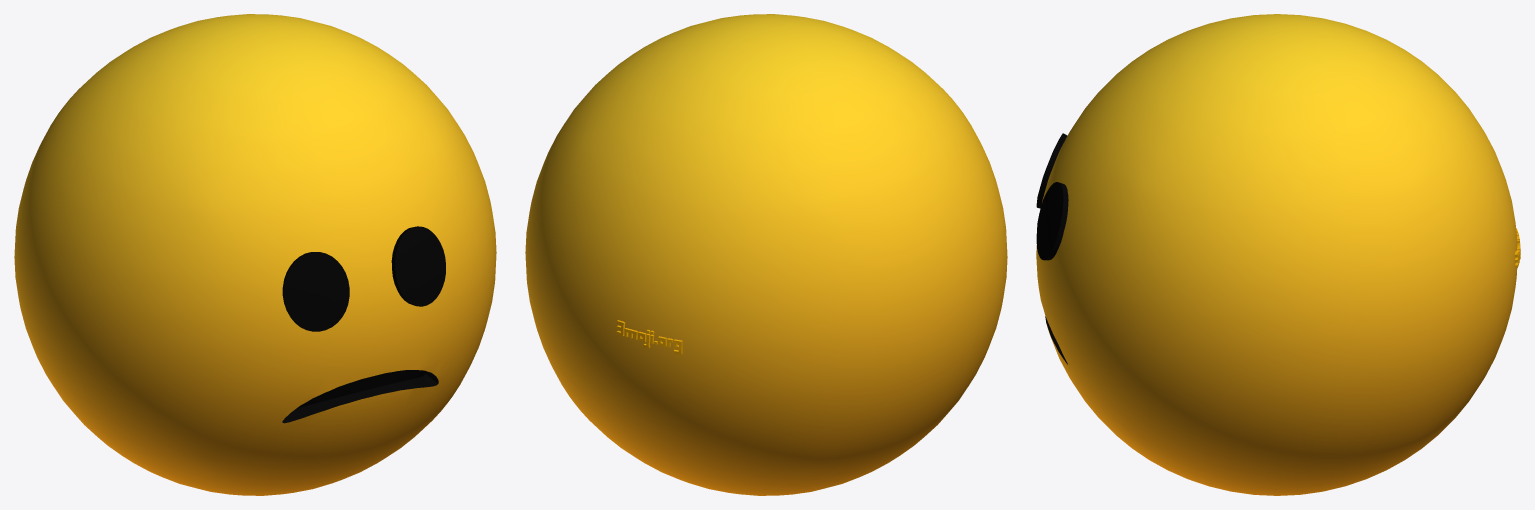
Rendered from slightly_frowning_face.glb.
3 renders of one model, left to right at view 1: azimuth 30°, elevation 25°; view 2: azimuth 150°, elevation 25°; view 3: azimuth 270°, elevation 25°, orthographic.
Parts seen in each view (by area): view 1: Slightly Frowning Face; view 2: Slightly Frowning Face; view 3: Slightly Frowning Face.
Boxes of the visible parts, bbox=[...] form: Slightly Frowning Face: bbox=[14, 14, 496, 495]; Slightly Frowning Face: bbox=[525, 14, 1007, 495]; Slightly Frowning Face: bbox=[1036, 14, 1520, 495].
Size of the model in its own units: 1.69 by 1.69 by 1.7.
1 material, 1 textured.
